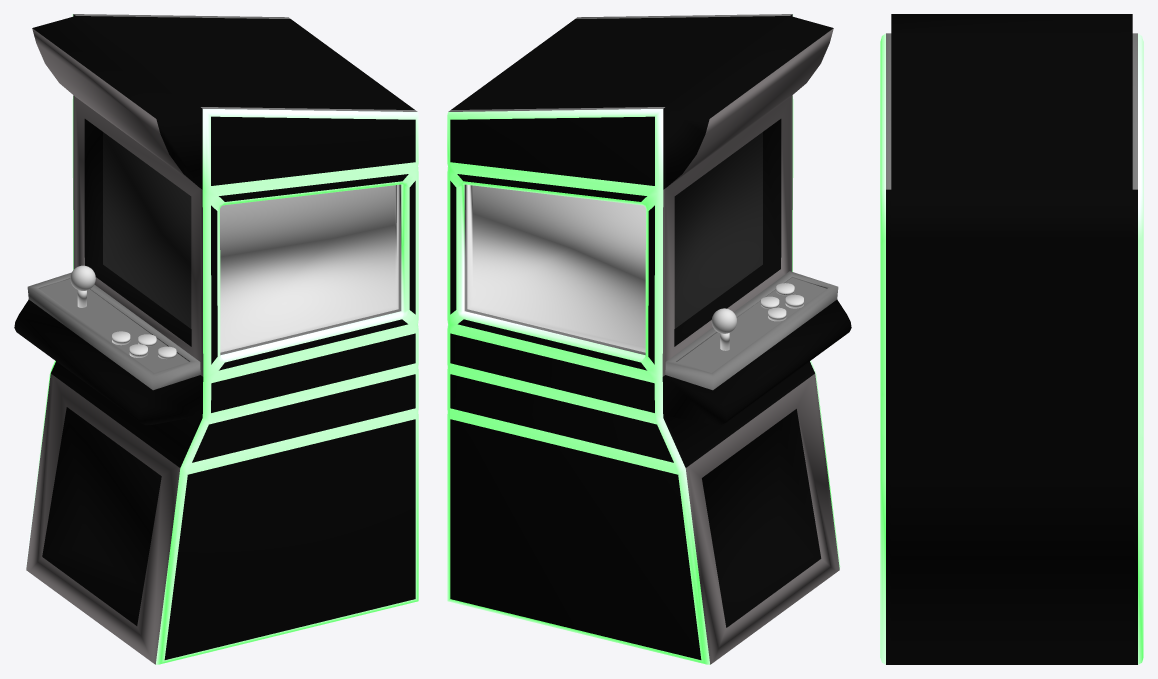
The model's file is Machine 6.fbx.
3 views of the same model, side by side, from view 1: azimuth 30°, elevation 25°; view 2: azimuth 150°, elevation 25°; view 3: azimuth 270°, elevation 25° (orthographic). The views are drawn at different scales.
Parts seen in each view (by area): view 1: Cylinder.006; view 2: Cylinder.006; view 3: Cylinder.006.
Boxes of the visible parts, x1,y1,x2,y2 form: Cylinder.006: [14, 14, 418, 664]; Cylinder.006: [447, 14, 851, 664]; Cylinder.006: [880, 14, 1143, 664].
Bounding box in the file's own units: 257 × 484 × 218.
